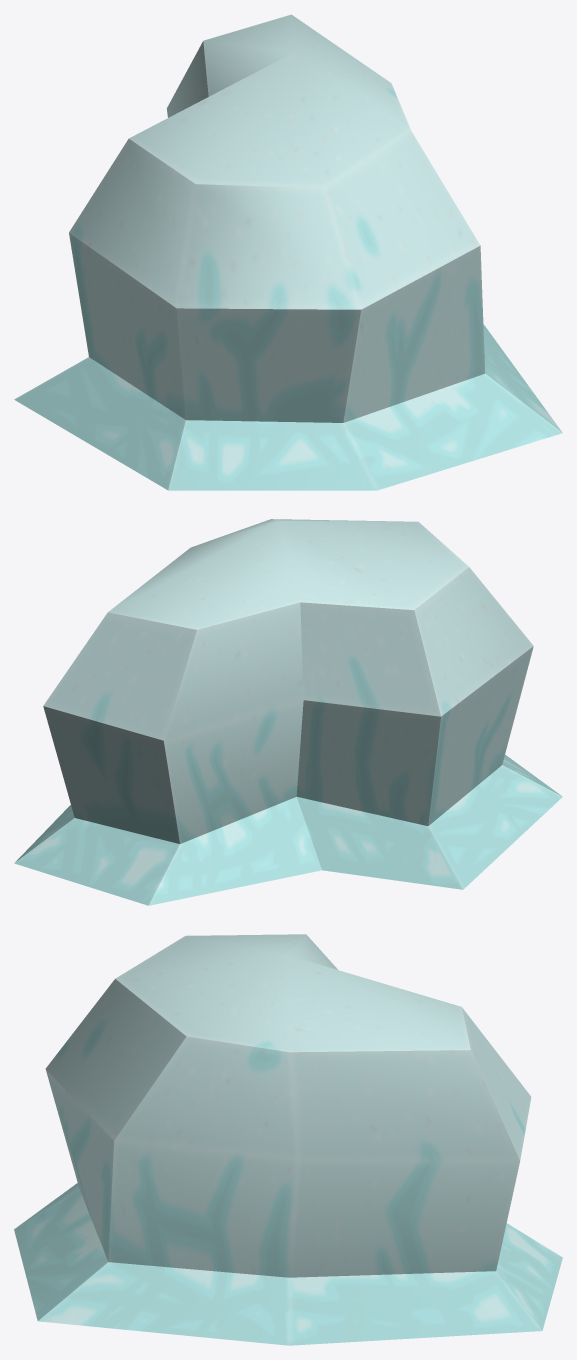
Rendered from env_Ice_Hill_B.FBX.
3 views of the same model, one above another, from view 1: azimuth 30°, elevation 25°; view 2: azimuth 150°, elevation 25°; view 3: azimuth 270°, elevation 25° (orthographic). The views are drawn at different scales.
Visible parts, largest first — view 1: env_Ice_Hill_B; view 2: env_Ice_Hill_B; view 3: env_Ice_Hill_B.
Part boxes in pixels (<box>): env_Ice_Hill_B: <box>14,14,562,490</box>; env_Ice_Hill_B: <box>14,519,562,905</box>; env_Ice_Hill_B: <box>14,934,562,1345</box>.
Bounding box in the file's own units: 1161 × 817 × 1348.
